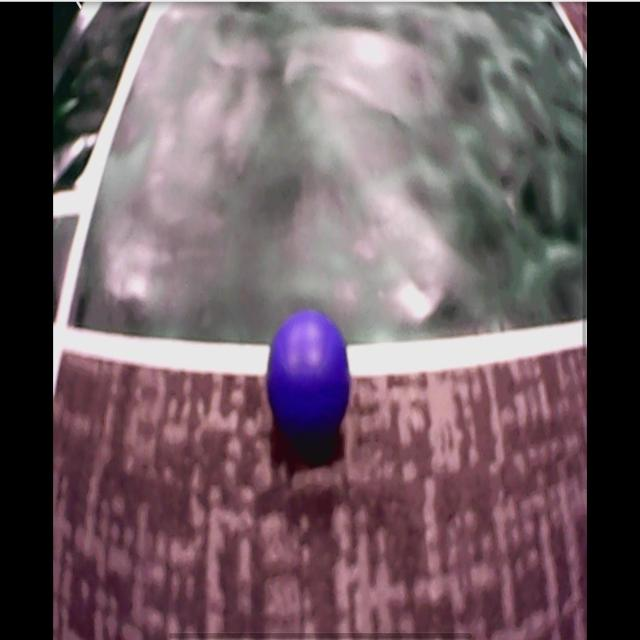ball: (268, 310, 351, 437)
